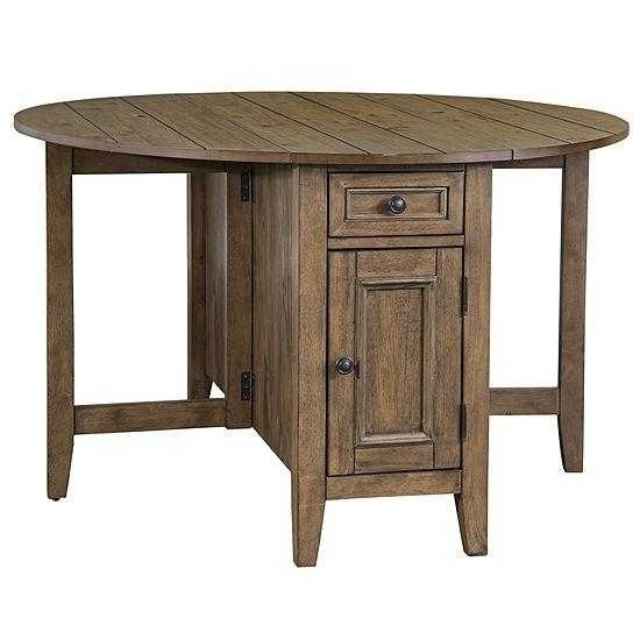obstacle: (15, 92, 627, 564)
